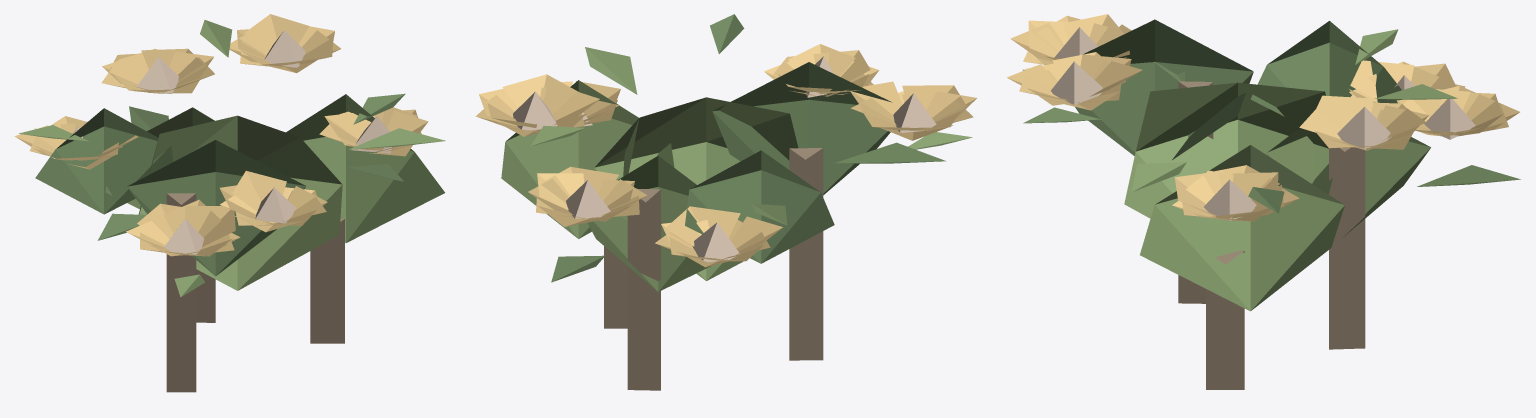
Rendered from hua.ju__summer.glb.
3 views of the same model, side by side, from view 1: azimuth 30°, elevation 25°; view 2: azimuth 150°, elevation 25°; view 3: azimuth 270°, elevation 25° (orthographic). The views are drawn at different scales.
Visible parts, largest first — view 1: hua.ju__summer; view 2: hua.ju__summer; view 3: hua.ju__summer.
Boxes of the visible parts, x1,y1,x2,y2 form: hua.ju__summer: (14,14,445,392); hua.ju__summer: (475,14,976,390); hua.ju__summer: (1007,14,1520,389).
Size of the model in its own units: 1.24 by 0.8611 by 1.35.
